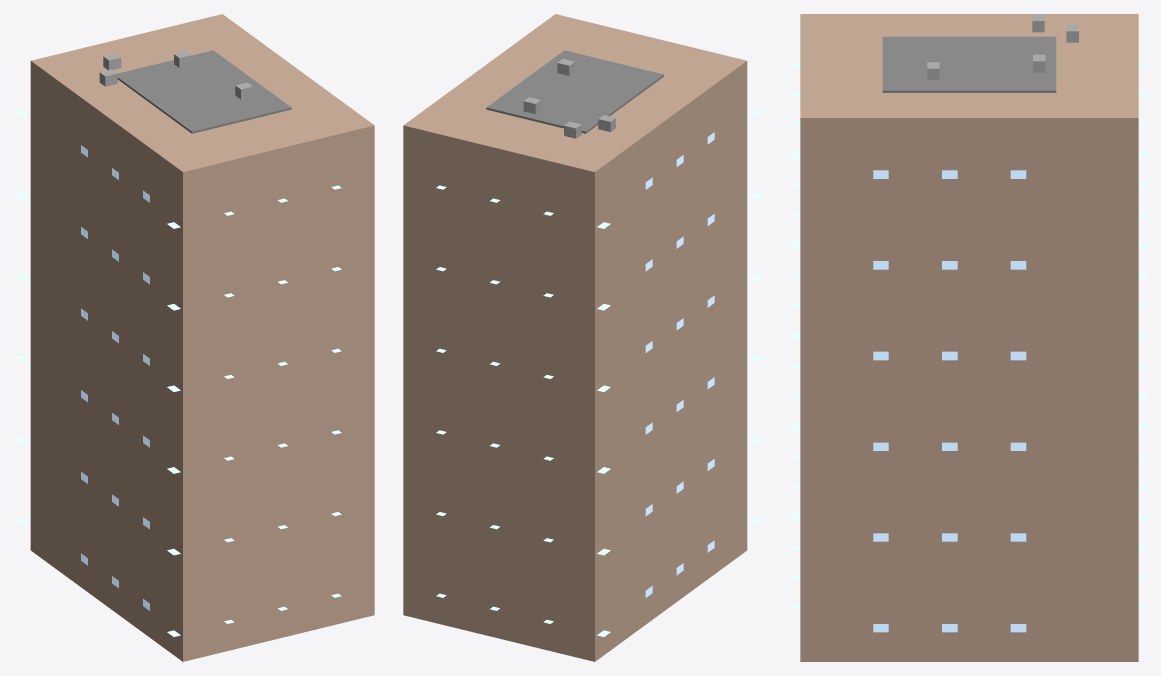
Rendered from residential_1.glb.
The picture shows the model from 3 angles, left to right: view 1: azimuth 30°, elevation 25°; view 2: azimuth 150°, elevation 25°; view 3: azimuth 270°, elevation 25°; orthographic projection. The views are drawn at different scales.
Visible parts, largest first — view 1: residential_1_body, residential_1_roof; view 2: residential_1_body, residential_1_roof; view 3: residential_1_body, residential_1_roof.
Part boxes in pixels (left/top/right/bottom): residential_1_body: left=30, top=14, right=374, bottom=661; residential_1_roof: left=117, top=50, right=291, bottom=133; residential_1_body: left=403, top=14, right=747, bottom=661; residential_1_roof: left=486, top=50, right=663, bottom=133; residential_1_body: left=800, top=14, right=1138, bottom=661; residential_1_roof: left=882, top=36, right=1056, bottom=92.
Bounding box in the file's own units: 8.4 × 19.75 × 11.34.
